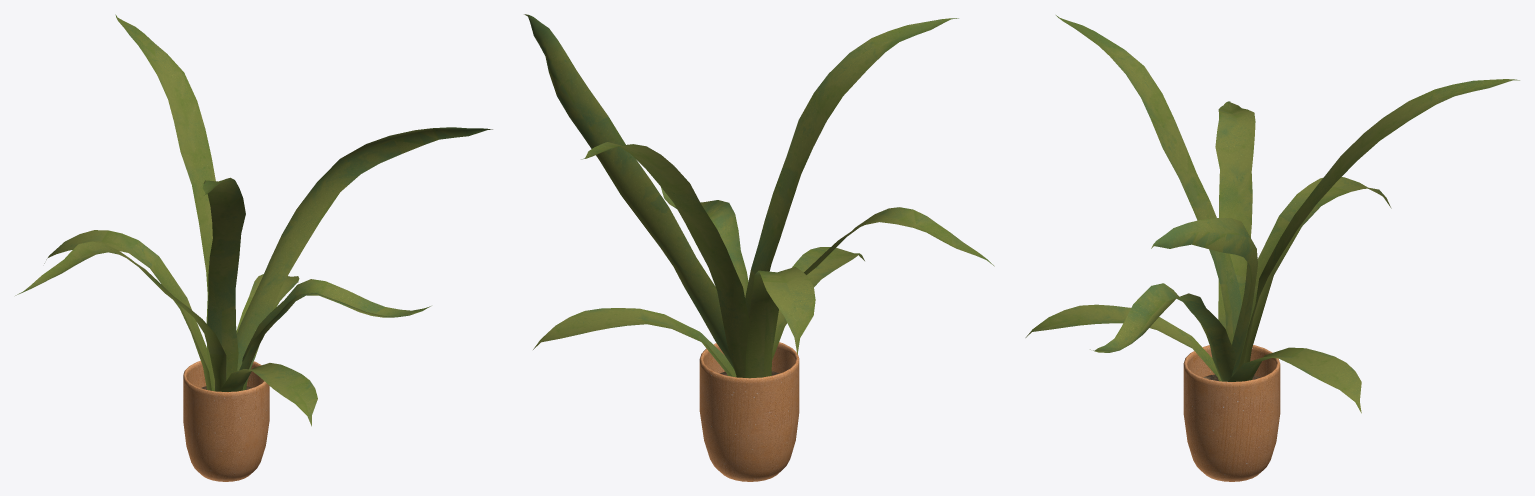
The model's file is pot.obj.
3 views of the same model, side by side, from view 1: azimuth 30°, elevation 25°; view 2: azimuth 150°, elevation 25°; view 3: azimuth 270°, elevation 25° (orthographic). The views are drawn at different scales.
Parts seen in each view (by area): view 1: pot_01_leaves, pot_01; view 2: pot_01_leaves, pot_01; view 3: pot_01_leaves, pot_01.
Boxes of the visible parts, <box> form: pot_01_leaves: <box>15,14,492,426</box>; pot_01: <box>183,360,269,481</box>; pot_01_leaves: <box>524,14,994,378</box>; pot_01: <box>699,342,799,481</box>; pot_01_leaves: <box>1025,15,1519,413</box>; pot_01: <box>1183,345,1280,481</box>.
Bounding box in the file's own units: 0.6202 × 0.4767 × 0.5363.
Materials: 2 (2 with a texture image).
